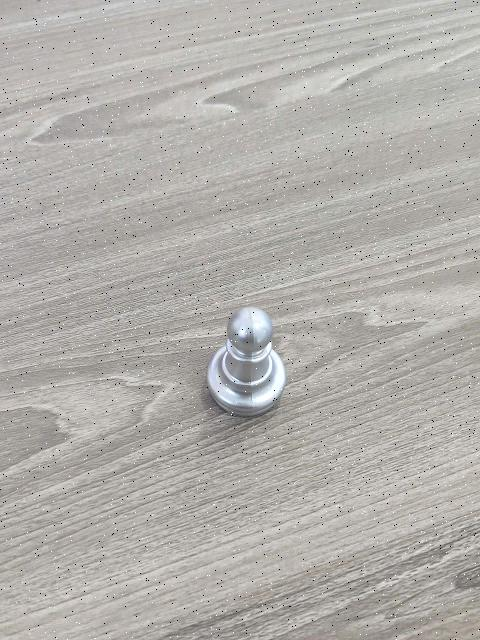white_pawn: (205, 303, 286, 418)
